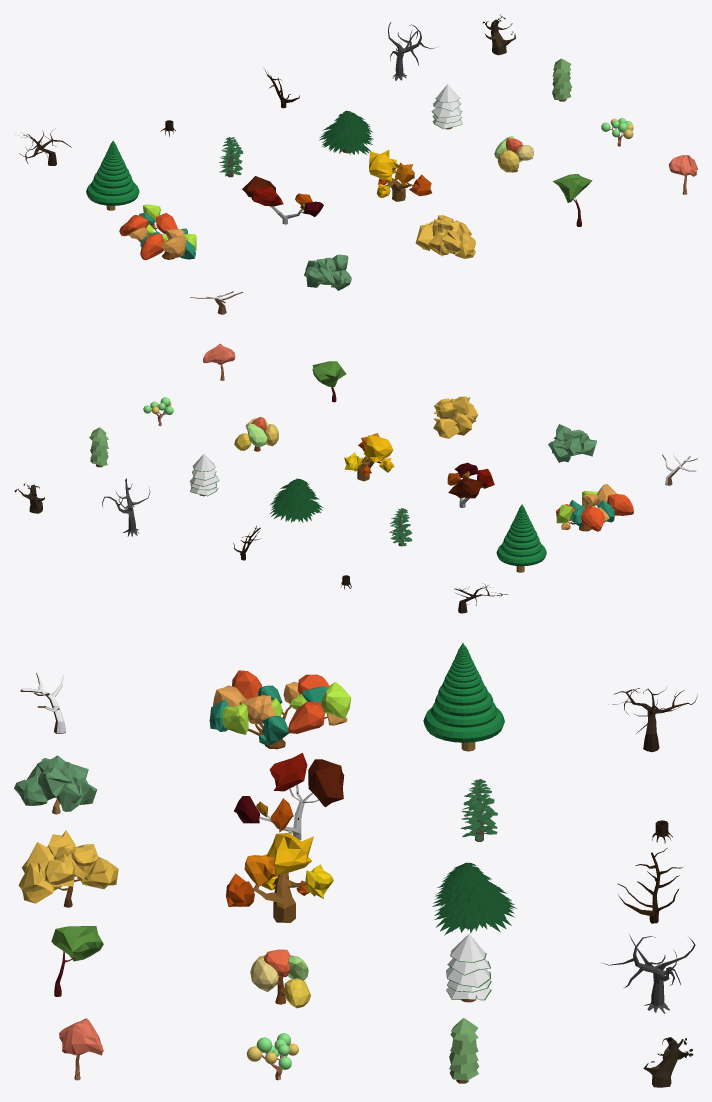
File: tree.glb
The picture shows the model from 3 angles, top to bottom: view 1: azimuth 30°, elevation 25°; view 2: azimuth 150°, elevation 25°; view 3: azimuth 270°, elevation 25°; orthographic projection. The views are drawn at different scales.
Parts seen in each view (by area): view 1: bulby5, pine4, Cube, bulby3, pine2, bulby4, bulb4, snowy_pine1, bulby2, bulb2, pine1, pine3 (+5 smaller); view 2: bulby5, pine4, pine2, Cube, bulby3, bulby4, bulb4, bulby2, snowy_pine1, bulb2, pine1, pine3 (+2 smaller); view 3: bulby5, bulby3, pine4, Cube, bulby4, pine2, bulb4, bulby2, snowy_pine1, bulb2, pine1, pine3 (+6 smaller).
Boxes of the visible parts, left/top/right/bottom form: bulby5: left=119, top=204, right=196, bottom=260; pine4: left=86, top=140, right=139, bottom=210; Cube: left=415, top=215, right=475, bottom=258; bulby3: left=369, top=150, right=431, bottom=201; pine2: left=319, top=110, right=373, bottom=154; bulby4: left=242, top=176, right=323, bottom=224; bulb4: left=304, top=254, right=351, bottom=290; snowy_pine1: left=431, top=84, right=462, bottom=129; bulby2: left=494, top=136, right=533, bottom=172; bulb2: left=553, top=173, right=592, bottom=226; pine1: left=552, top=58, right=572, bottom=101; pine3: left=219, top=137, right=243, bottom=177; bulby5: left=556, top=484, right=633, bottom=531; pine4: left=496, top=504, right=546, bottom=572; pine2: left=270, top=478, right=323, bottom=522; Cube: left=433, top=396, right=478, bottom=438; bulby3: left=344, top=433, right=394, bottom=481; bulby4: left=447, top=462, right=494, bottom=507; bulb4: left=548, top=424, right=596, bottom=462; bulby2: left=234, top=417, right=278, bottom=451; snowy_pine1: left=189, top=454, right=219, bottom=496; bulb2: left=312, top=361, right=346, bottom=402; pine1: left=89, top=427, right=108, bottom=467; pine3: left=389, top=508, right=412, bottom=546; bulby5: left=209, top=670, right=351, bottom=749; bulby3: left=226, top=833, right=333, bottom=922; pine4: left=423, top=643, right=504, bottom=751; Cube: left=18, top=830, right=118, bottom=907; bulby4: left=234, top=753, right=344, bottom=840; pine2: left=432, top=862, right=516, bottom=935; bulb4: left=14, top=755, right=97, bottom=814; bulby2: left=250, top=949, right=310, bottom=1008; snowy_pine1: left=446, top=934, right=491, bottom=1002; bulb2: left=51, top=926, right=103, bottom=996; pine1: left=449, top=1018, right=479, bottom=1083; pine3: left=461, top=779, right=497, bottom=841.
Bounding box in the file's own units: 50.23 × 6.67 × 37.64.
